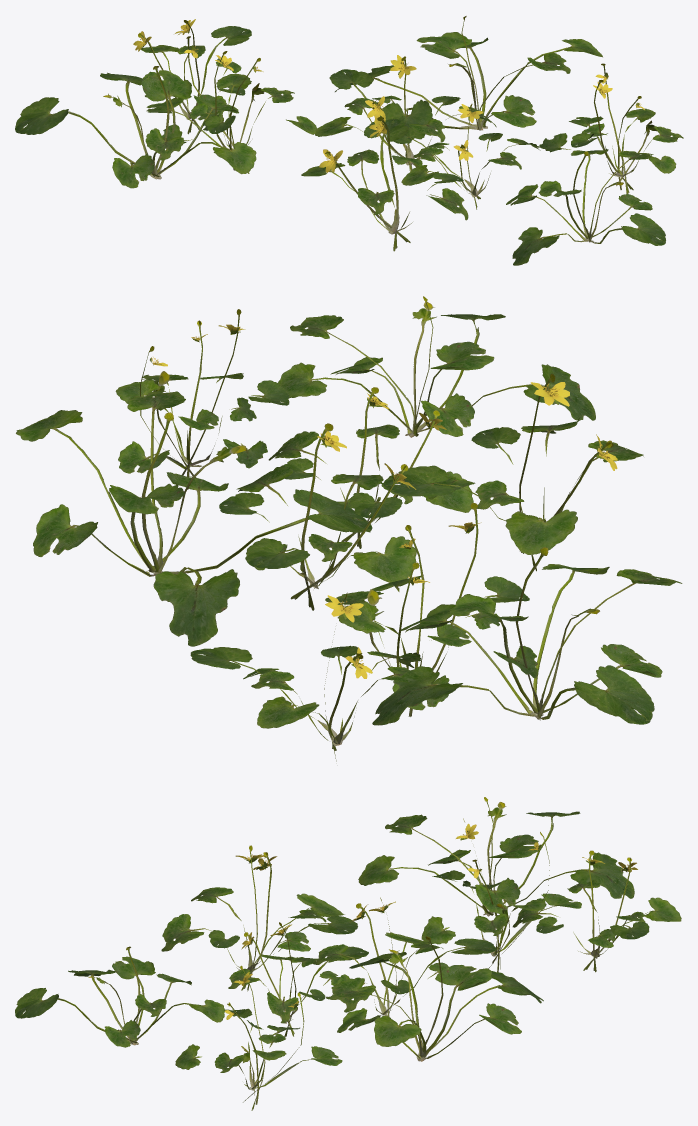
The model's file is Scan_Celandine_B.fbx.
The picture shows the model from 3 angles, top to bottom: view 1: azimuth 30°, elevation 25°; view 2: azimuth 150°, elevation 25°; view 3: azimuth 270°, elevation 25°; orthographic projection. The views are drawn at different scales.
Visible parts, largest first — view 1: Scan_Celandine_B_LOD0; view 2: Scan_Celandine_B_LOD0; view 3: Scan_Celandine_B_LOD0.
Part boxes in pixels (x1,y1,x2,y2): Scan_Celandine_B_LOD0: (15,16,683,265); Scan_Celandine_B_LOD0: (16,296,682,761); Scan_Celandine_B_LOD0: (15,797,681,1110).
Size of what is drawn, in the model's own units: 0.8314 by 0.2215 by 0.9338.
